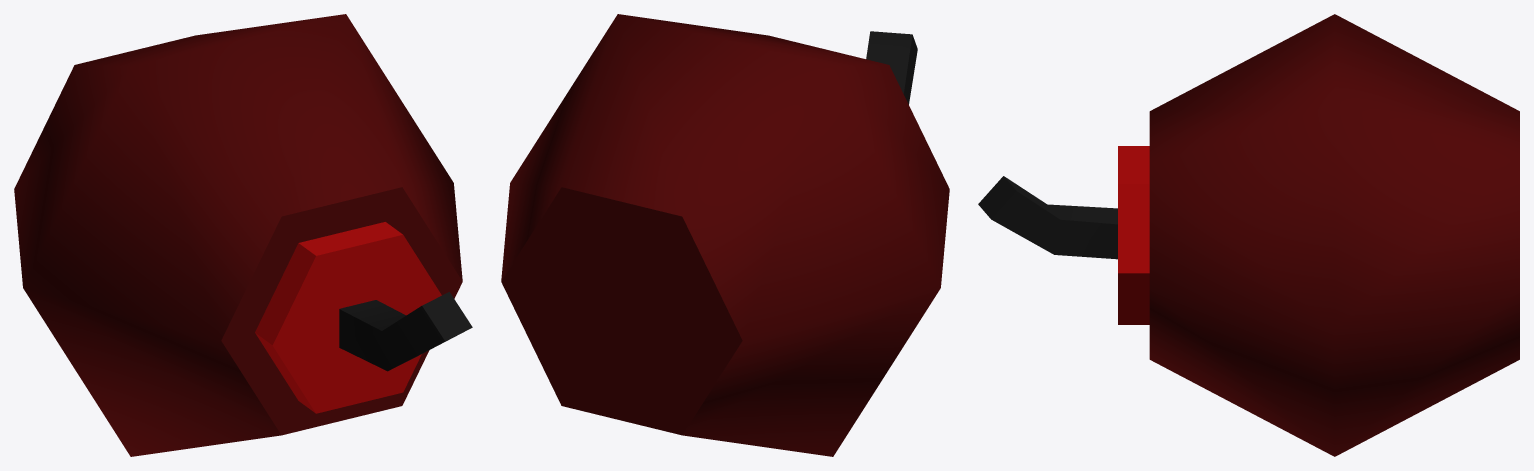
Rendered from Grenade 01.FBX.
3 renders of one model, left to right at view 1: azimuth 30°, elevation 25°; view 2: azimuth 150°, elevation 25°; view 3: azimuth 270°, elevation 25°, orthographic. The views are drawn at different scales.
Parts seen in each view (by area): view 1: Grenade 01; view 2: Grenade 01; view 3: Grenade 01.
Part boxes in pixels (bbox=[...]): Grenade 01: bbox=[14, 14, 472, 456]; Grenade 01: bbox=[501, 14, 949, 456]; Grenade 01: bbox=[978, 14, 1519, 456].
Bounding box in the file's own units: 19.52 × 16.91 × 23.79.
